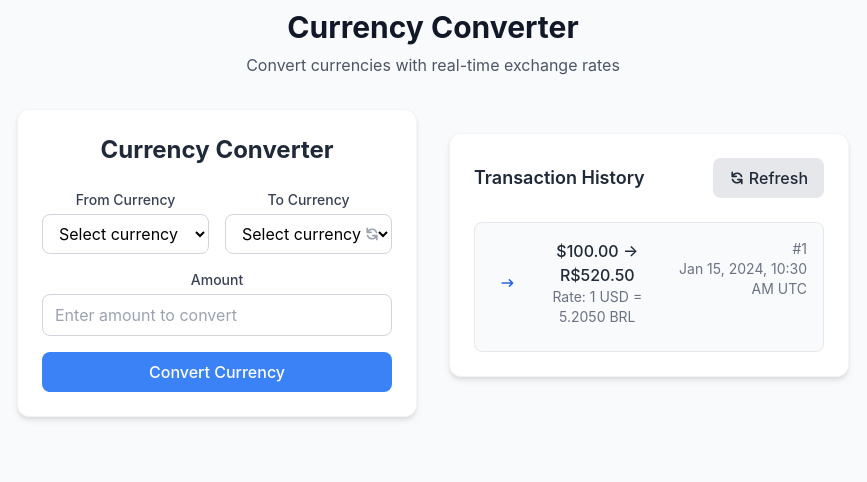
Test: Currency Converter App › should prevent same currency conversion
Note: Select same currency for both from and to
Select "USD - US Dollar" in the dropdown with id "from-currency" at (126, 234), box [42,214,209,254]
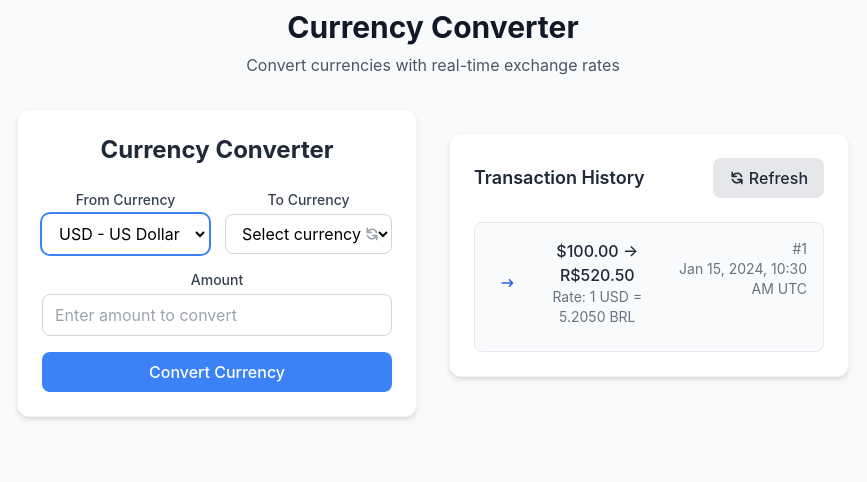
Select "USD - US Dollar" in the dropdown with id "to-currency" at (309, 234), box [225,214,392,254]
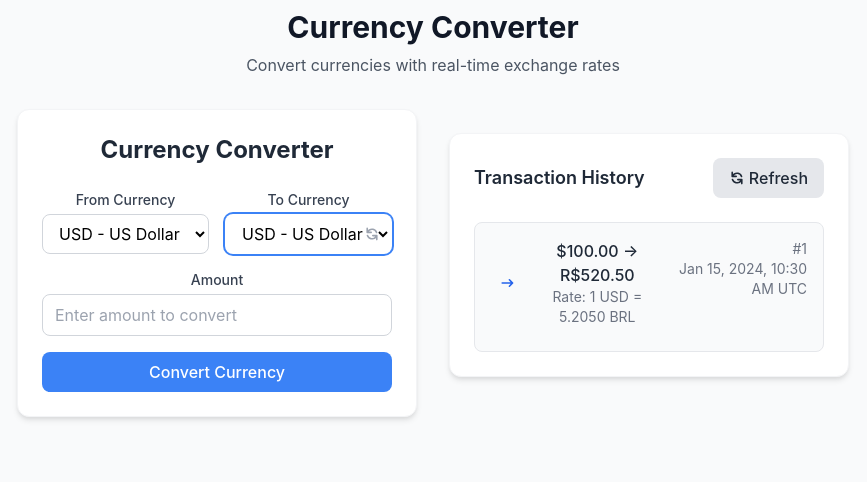
Type "100" into the number field with id "amount".
click(217, 315); type("100")  # box [42,294,392,336]
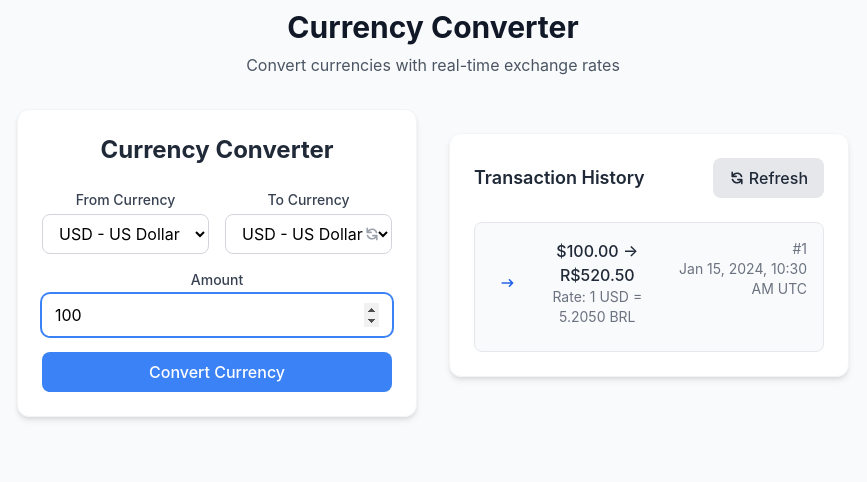
Note: Try to submit
Click the submit button.
click(217, 372)  # box [42,352,392,392]
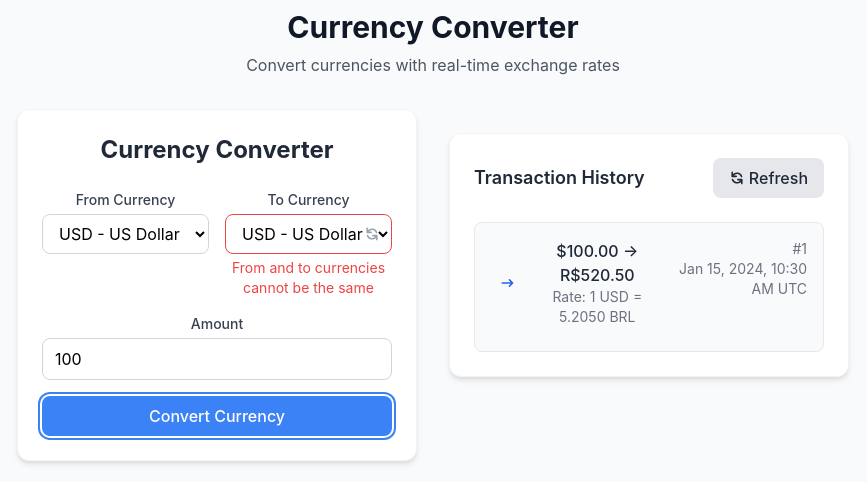
Now the text "From and to currencies cannot be the same" is shown, box [225,258,392,298]
